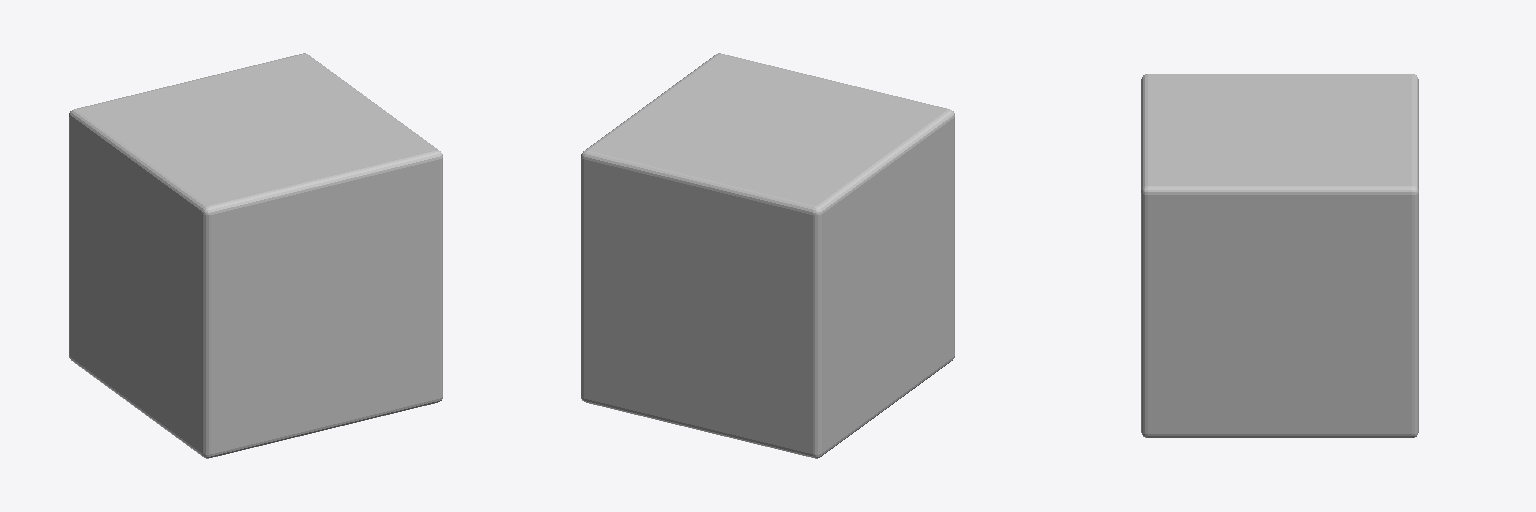
Rendered from ChamferedCube_phys.obj.
3 renders of one model, left to right at view 1: azimuth 30°, elevation 25°; view 2: azimuth 150°, elevation 25°; view 3: azimuth 270°, elevation 25°, orthographic.
Visible parts, largest first — view 1: Cube_Cube.002; view 2: Cube_Cube.002; view 3: Cube_Cube.002.
Part boxes in pixels (x1,y1,x2,y2): Cube_Cube.002: (69, 53, 442, 458); Cube_Cube.002: (581, 53, 954, 458); Cube_Cube.002: (1141, 74, 1418, 437).
Size of the model in its own units: 4 by 4 by 4.